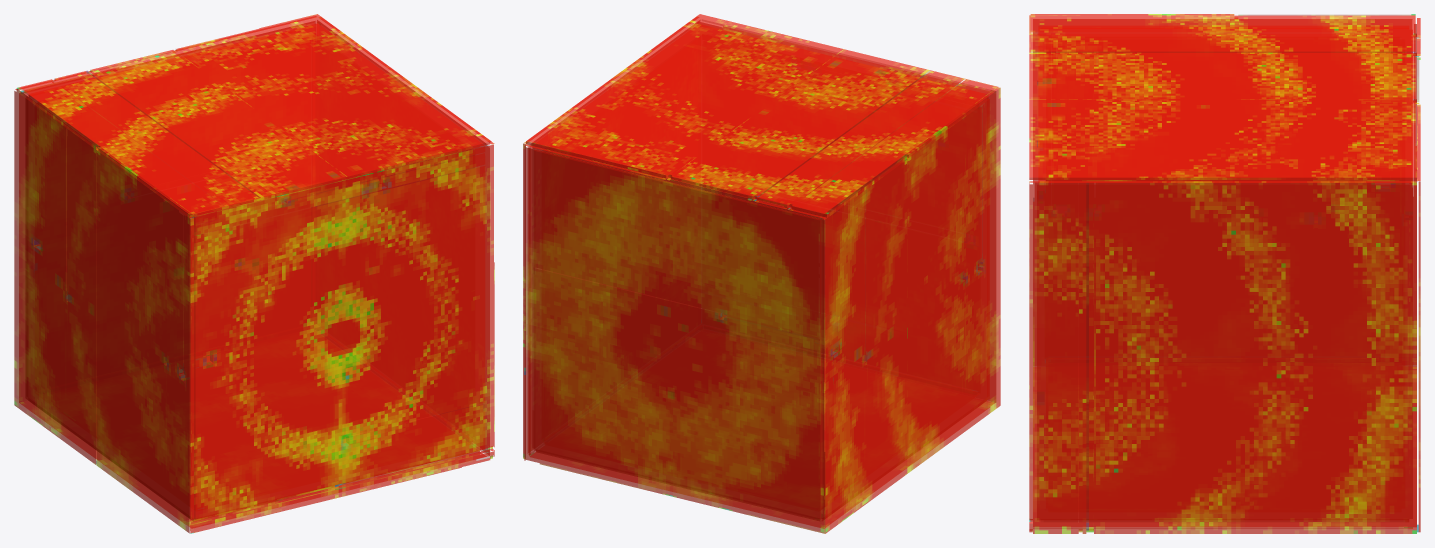
File: microwave_out.glb
3 renders of one model, left to right at view 1: azimuth 30°, elevation 25°; view 2: azimuth 150°, elevation 25°; view 3: azimuth 270°, elevation 25°, orthographic. The views are drawn at different scales.
Parts seen in each view (by area): view 1: chunk:0; view 2: chunk:0; view 3: chunk:0.
Part boxes in pixels (box(x1,y1,x2,y2)): chunk:0: box(14, 14, 494, 533); chunk:0: box(523, 14, 1000, 533); chunk:0: box(1029, 14, 1420, 533).
Bounding box in the file's own units: 0.515 × 0.515 × 0.515.
1 material, 1 textured.
